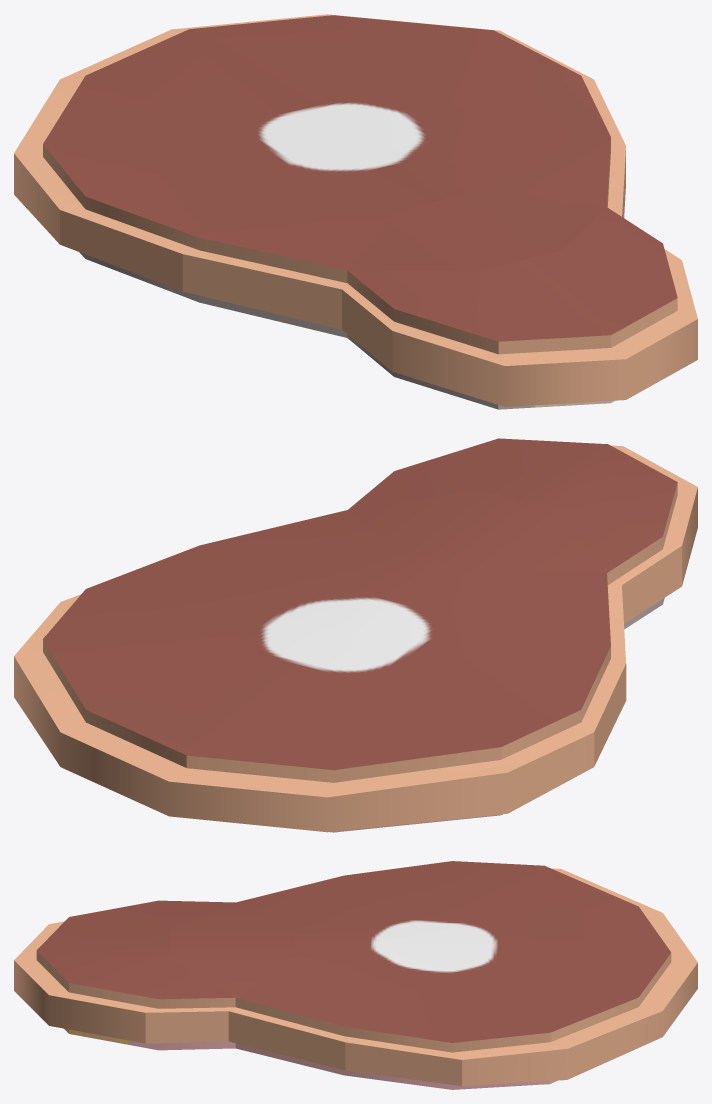
File: Unwrapped_meat5.fbx
3 renders of one model, top to bottom at view 1: azimuth 30°, elevation 25°; view 2: azimuth 150°, elevation 25°; view 3: azimuth 270°, elevation 25°, orthographic. The views are drawn at different scales.
Parts seen in each view (by area): view 1: Cylinder021; view 2: Cylinder021; view 3: Cylinder021.
Part boxes in pixels (x1=…): Cylinder021: x1=14, y1=14, x2=697, y2=409; Cylinder021: x1=14, y1=438, x2=697, y2=832; Cylinder021: x1=14, y1=861, x2=697, y2=1089.
Bounding box in the file's own units: 26.27 × 4.08 × 38.73.
